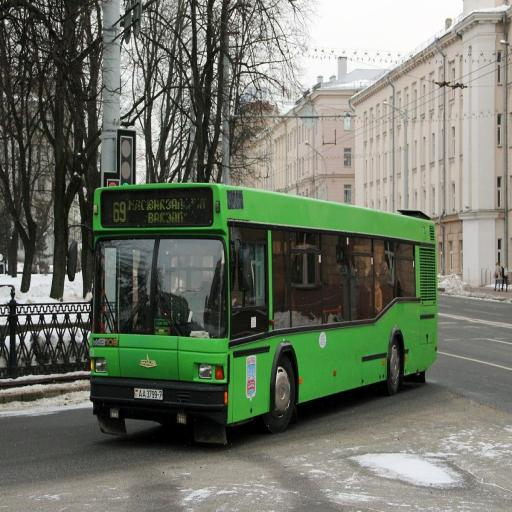glass_wall: (0, 297, 512, 512)
pole: (116, 128, 136, 186)
